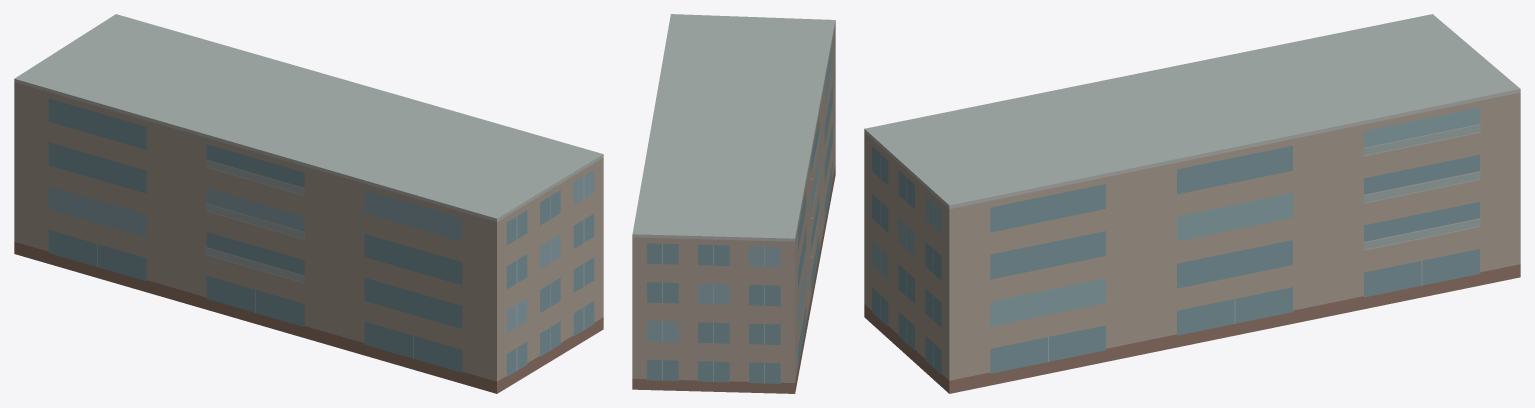
The model's file is survey-upis-32629482.glb.
3 renders of one model, left to right at view 1: azimuth 30°, elevation 25°; view 2: azimuth 150°, elevation 25°; view 3: azimuth 270°, elevation 25°, orthographic. The views are drawn at different scales.
Parts seen in each view (by area): view 1: survey-upis-32629482.tmp; view 2: survey-upis-32629482.tmp; view 3: survey-upis-32629482.tmp.
Boxes of the visible parts, x1,y1,x2,y2 form: survey-upis-32629482.tmp: [14, 14, 603, 393]; survey-upis-32629482.tmp: [632, 14, 835, 393]; survey-upis-32629482.tmp: [864, 14, 1520, 393].
Bounding box in the file's own units: 27.03 × 12.4 × 39.14.
